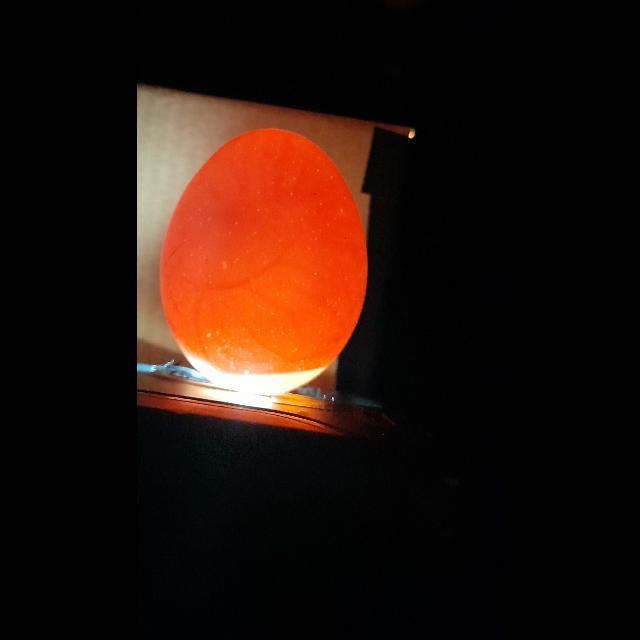Fertile: (163, 130, 369, 400)
